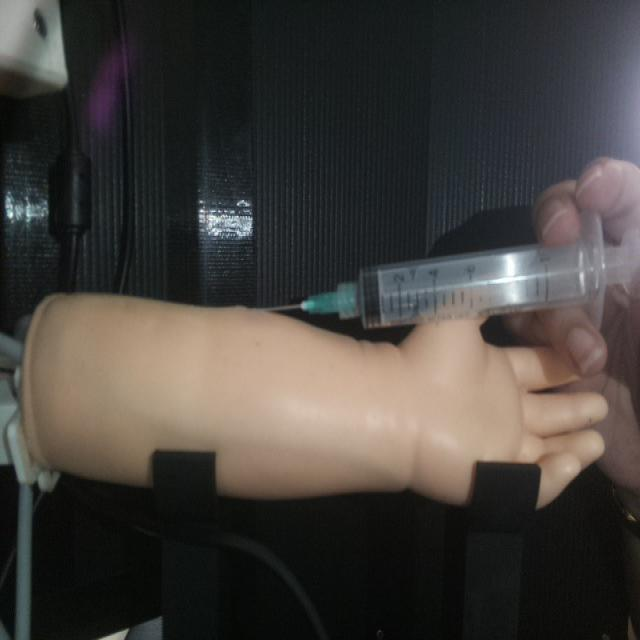Below 15 degrees: (258, 209, 637, 332)
